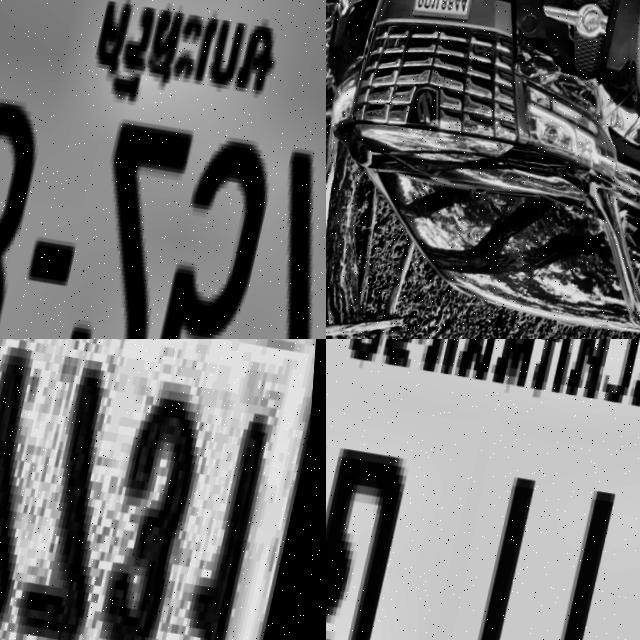license-plate: (0, 0, 326, 339), (0, 339, 326, 640), (326, 339, 640, 640), (409, 0, 480, 26)
